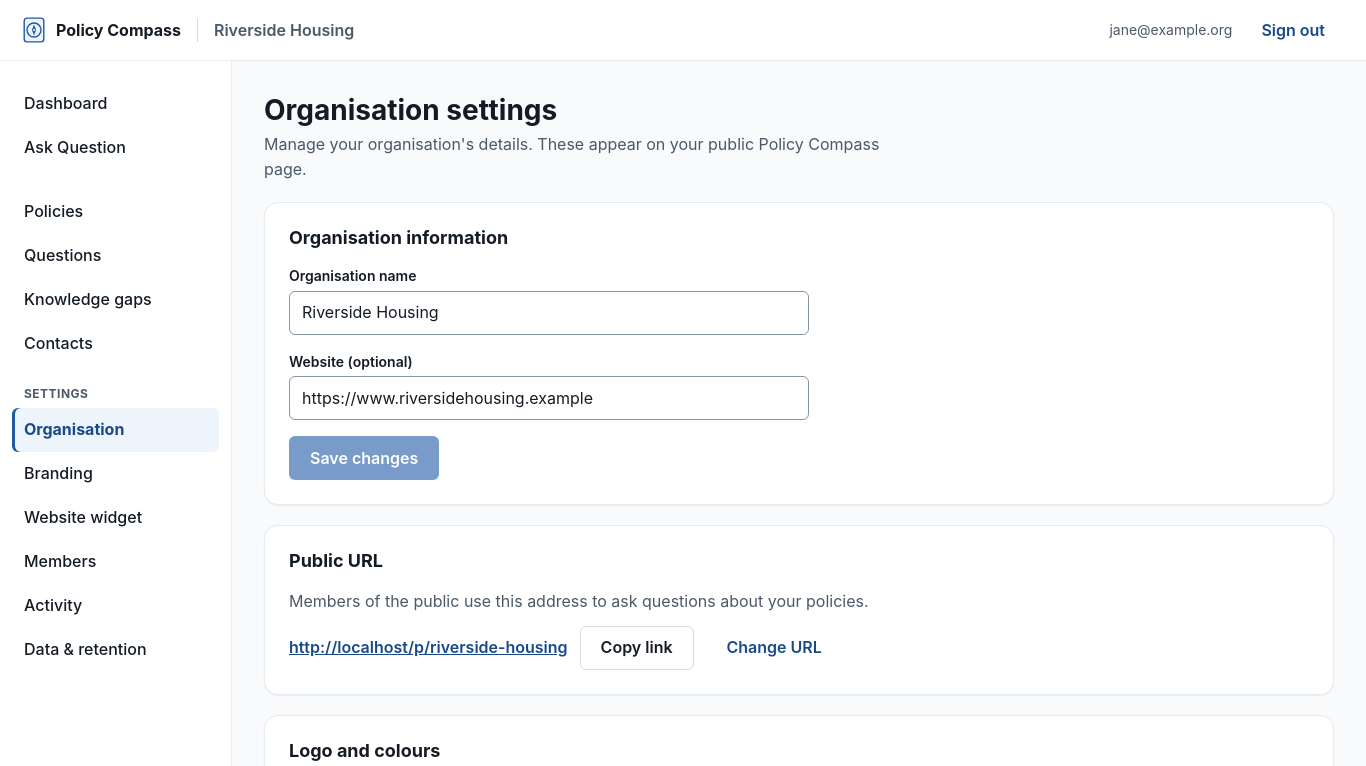
Test: Organisation settings › validates before saving
Clear the field labelled "Organisation name" at (549, 313), box x1=289 y1=291 x2=809 y2=335
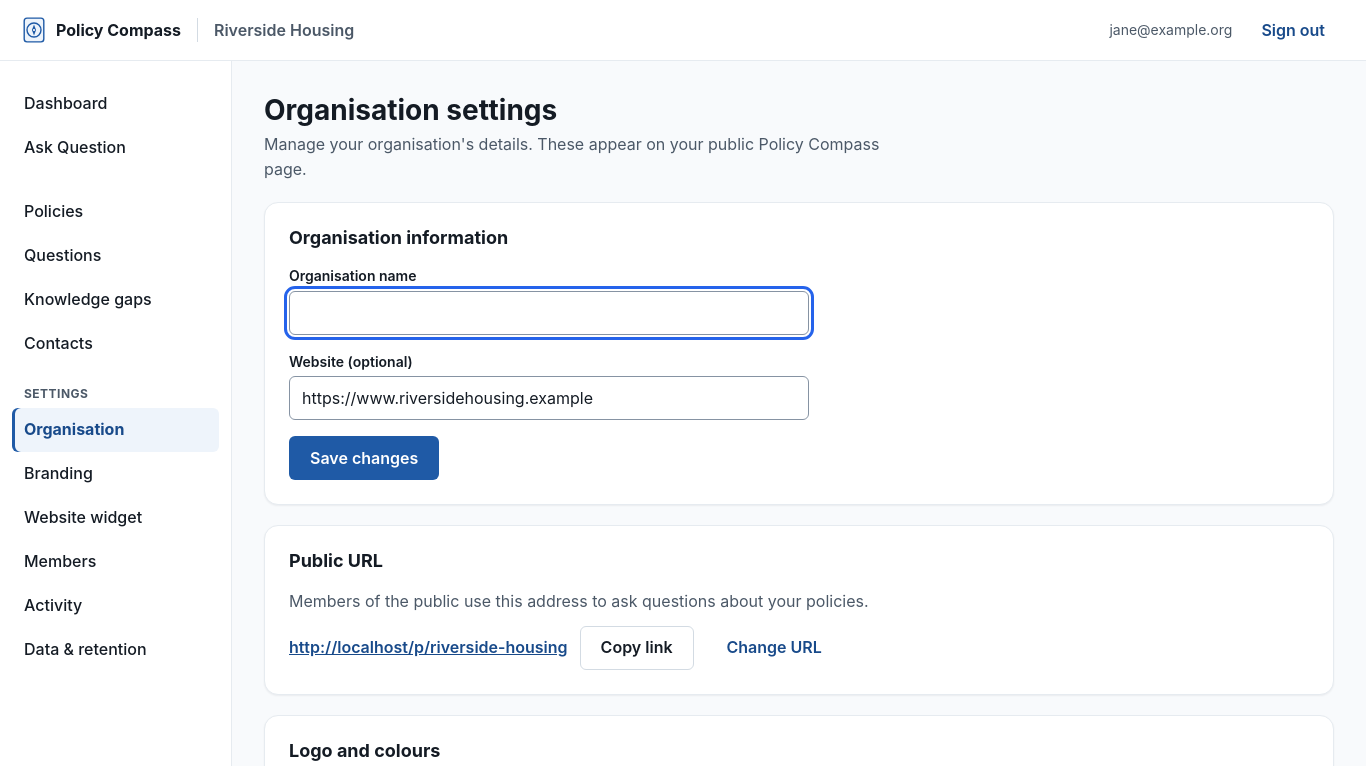
Click the button "Save changes".
click(364, 458)  # box x1=289 y1=436 x2=439 y2=480
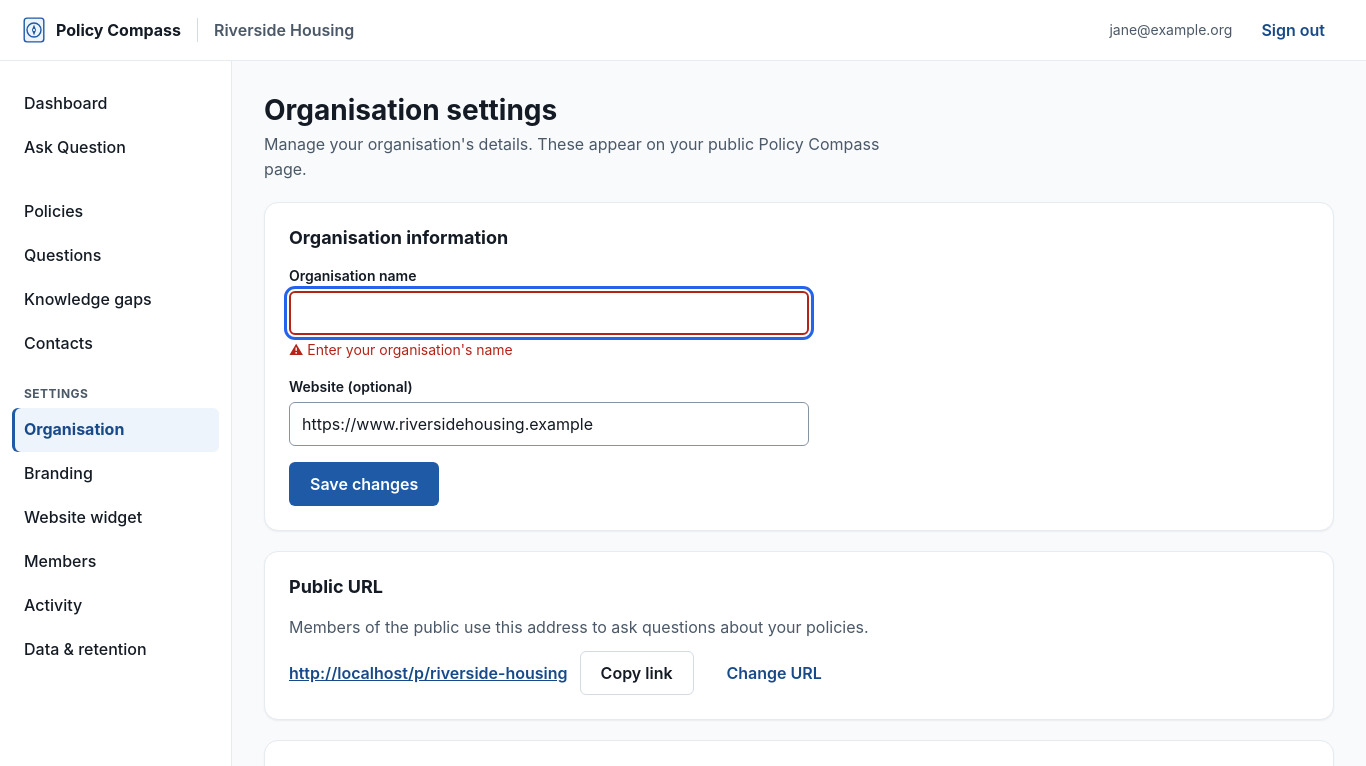
Expected: the text "⚠ Enter your organisation's name" is shown, x1=289 y1=341 x2=513 y2=358
